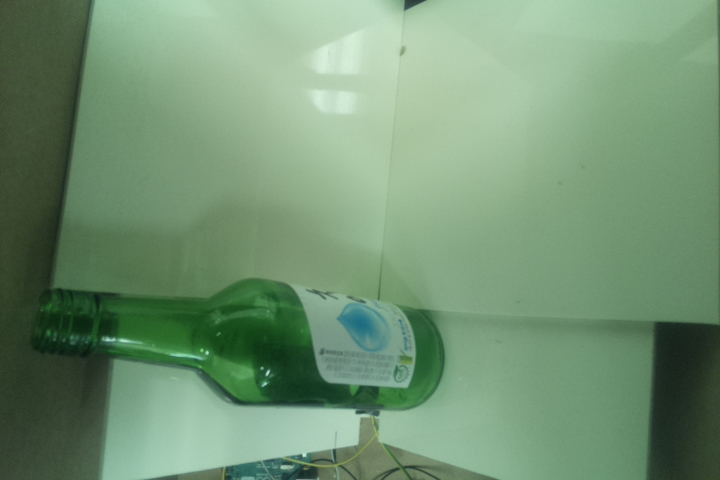soju: (32, 279, 449, 413)
